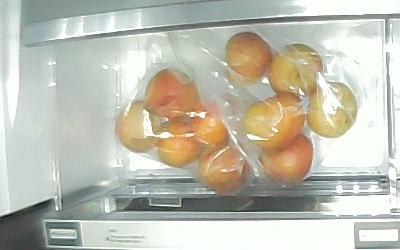prune_vinyl: (245, 92, 305, 152), (269, 43, 325, 100), (144, 69, 200, 122), (306, 82, 359, 138), (261, 132, 315, 186), (197, 145, 252, 197), (117, 101, 165, 153), (182, 103, 230, 155), (224, 31, 272, 81), (158, 123, 202, 169)
